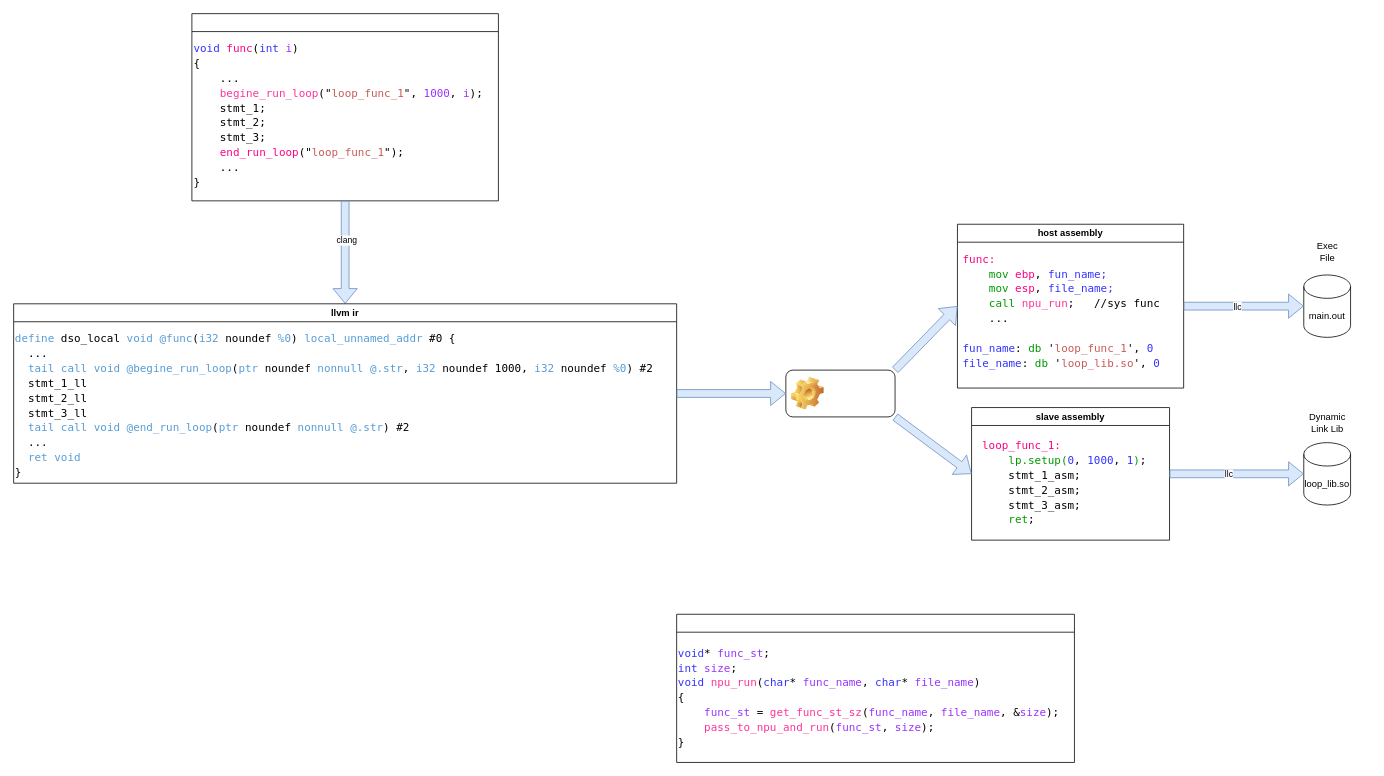
Some shapes in this 1384 by 776 pixel diagram are drawn without their labels. The box of each missing label's shape, as (x1, y1, x2, y2) in pixels:
C code: (191, 13, 498, 201)
C code for `npu_run`: (676, 613, 1074, 762)
Compiler: (785, 369, 895, 417)
